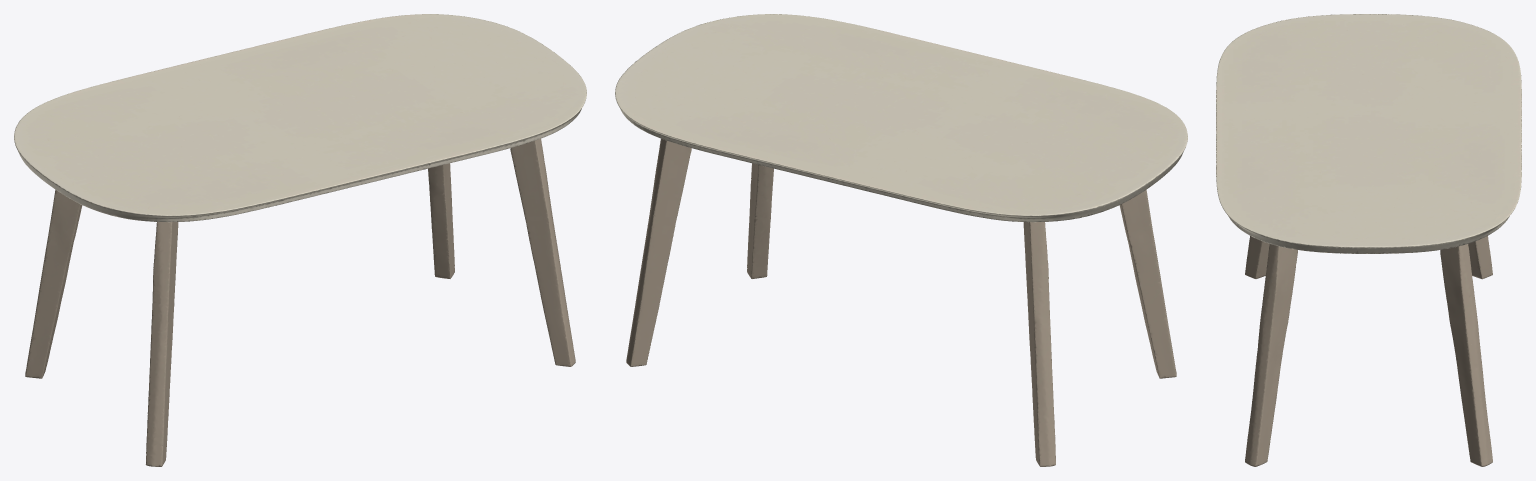
Rendered from desk.glb.
3 renders of one model, left to right at view 1: azimuth 30°, elevation 25°; view 2: azimuth 150°, elevation 25°; view 3: azimuth 270°, elevation 25°, orthographic. The views are drawn at different scales.
Visible parts, largest first — view 1: world; view 2: world; view 3: world.
Part boxes in pixels (left/top/right/bottom): world: left=14, top=14, right=586, bottom=466; world: left=615, top=14, right=1187, bottom=466; world: left=1216, top=14, right=1521, bottom=466.
Size of the model in its own units: 0.998 by 0.4789 by 0.5532.
1 material, 1 textured.
